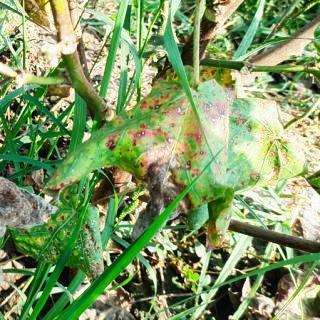blight: (48, 74, 304, 237)
